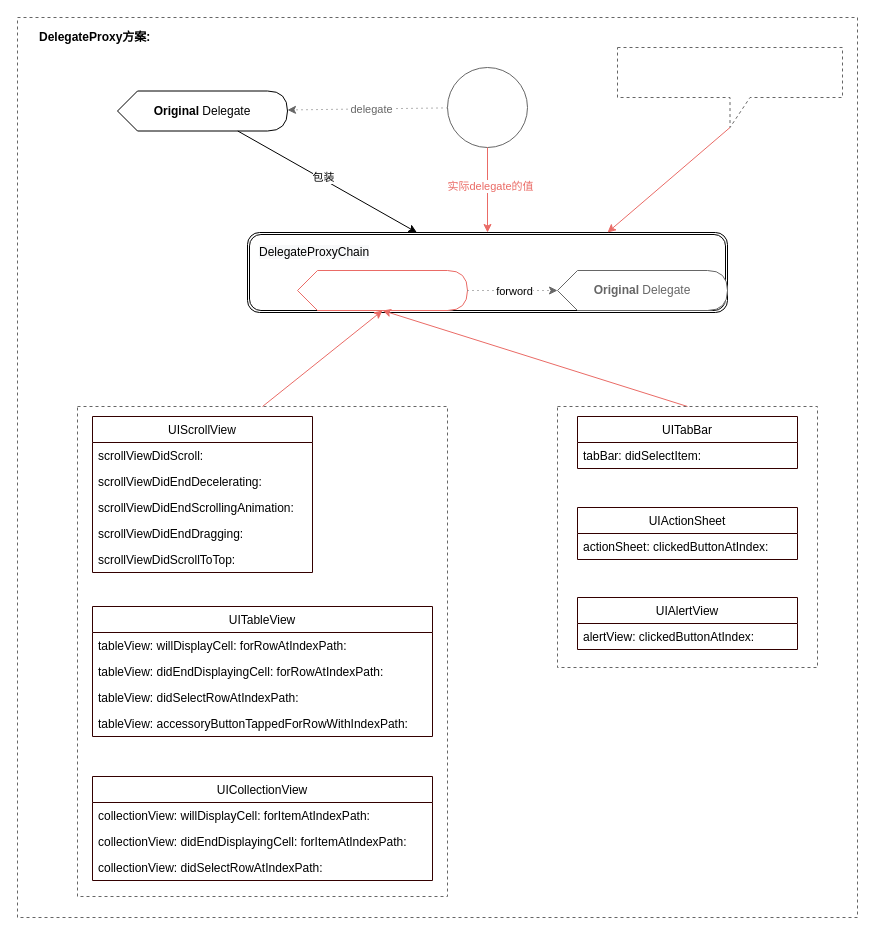
The diagram is 875 pixels wide and 935 high, and some of its shapes have lost their labels. Each missing label, with the centre of its shape:
"Inteceptor" belongs at pixel 382 290.
"Object" belongs at pixel 487 107.
"为了兼容云音乐的代码， DelegateProxyChain其中一个方法名固定位： containsObject :" belongs at pixel 729 87.
